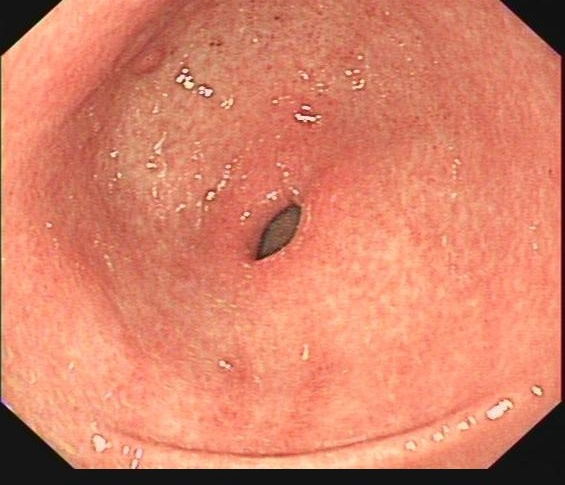Polyp: (106, 25, 178, 97)
